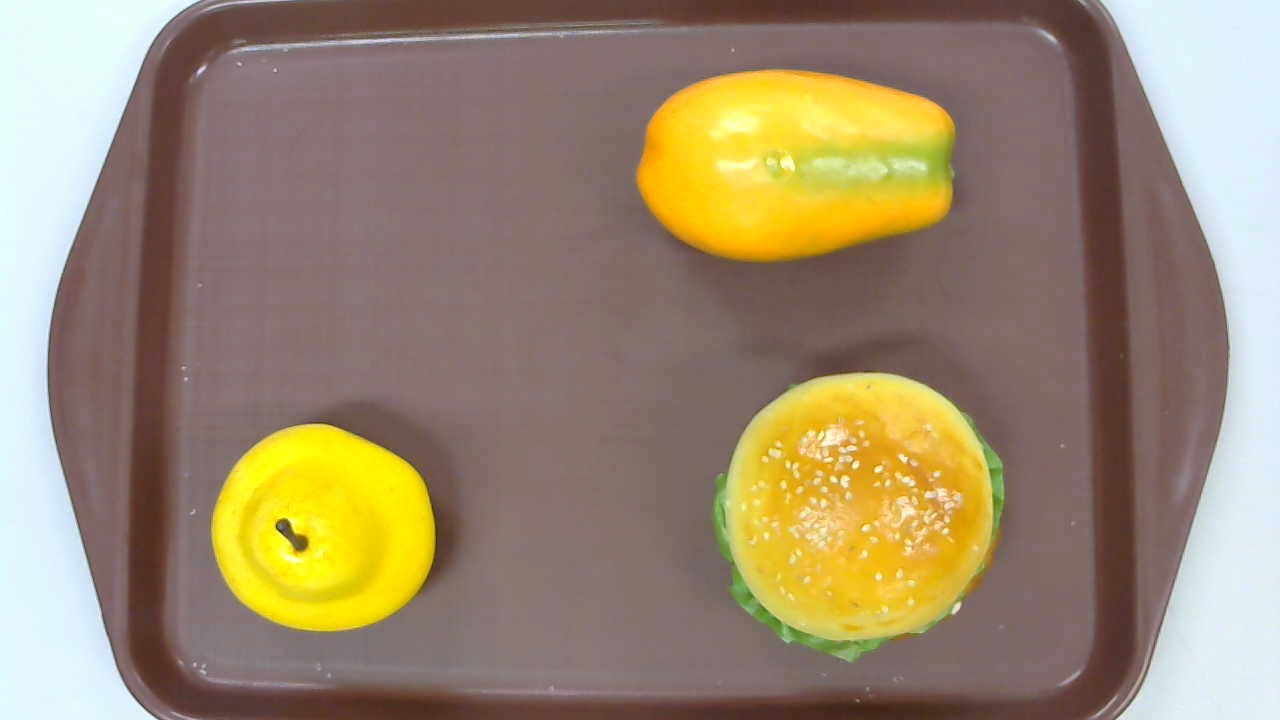hamburger: (712, 371, 1004, 660)
papya: (635, 67, 956, 265)
yellow pear: (210, 424, 435, 630)
